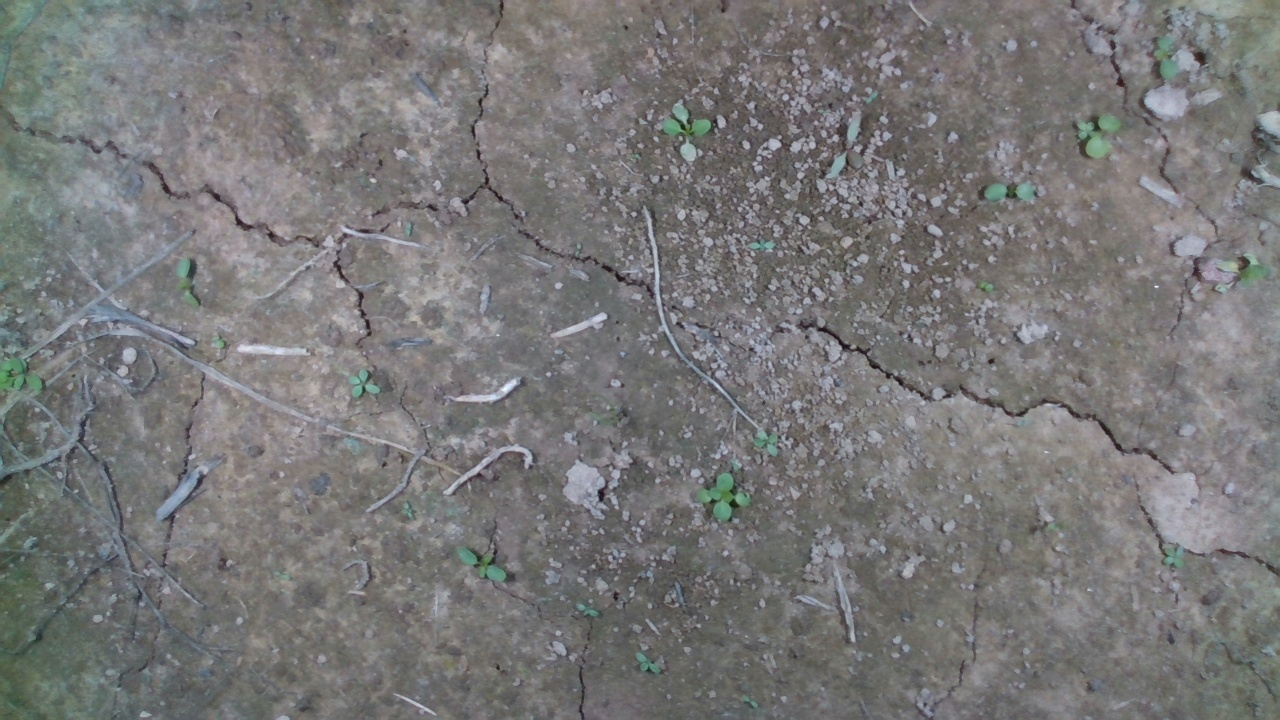weed: (702, 467, 750, 527), (454, 540, 510, 585), (1075, 107, 1116, 164), (172, 256, 211, 304), (979, 172, 1030, 205), (664, 104, 704, 144), (344, 365, 386, 401), (746, 426, 789, 460), (632, 648, 674, 681), (574, 601, 600, 622)
